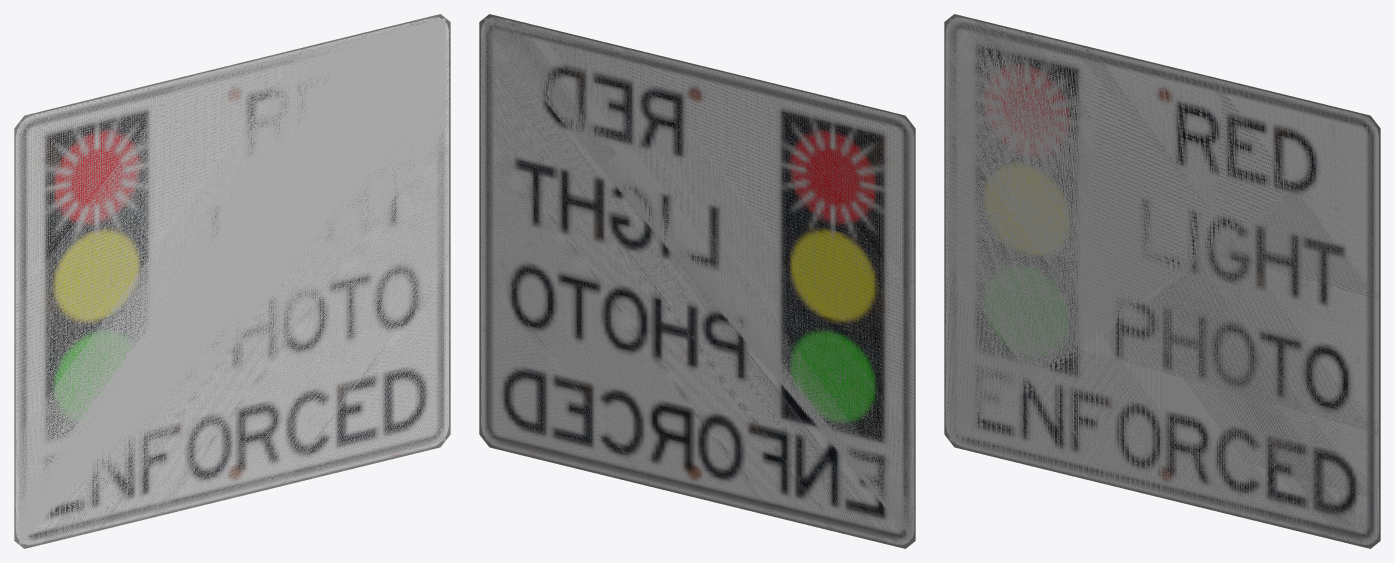
Rendered from s_sign_lightcam.dae.
The picture shows the model from 3 angles, left to right: view 1: azimuth 30°, elevation 25°; view 2: azimuth 150°, elevation 25°; view 3: azimuth 330°, elevation 25°; orthographic projection.
Visible parts, largest first — view 1: s_sign_lightcam_a015, s_sign_lightcam_a030; view 2: s_sign_lightcam_a030, s_sign_lightcam_a015; view 3: s_sign_lightcam_a030, s_sign_lightcam_a015.
Boxes of the visible parts, x1,y1,x2,y2 form: s_sign_lightcam_a015: [19, 18, 445, 544]; s_sign_lightcam_a030: [14, 14, 450, 548]; s_sign_lightcam_a030: [479, 14, 915, 548]; s_sign_lightcam_a015: [484, 18, 910, 538]; s_sign_lightcam_a030: [944, 14, 1380, 548]; s_sign_lightcam_a015: [949, 18, 1375, 535].
Size of the model in its own units: 1.07 by 4.44e-08 by 1.02.
